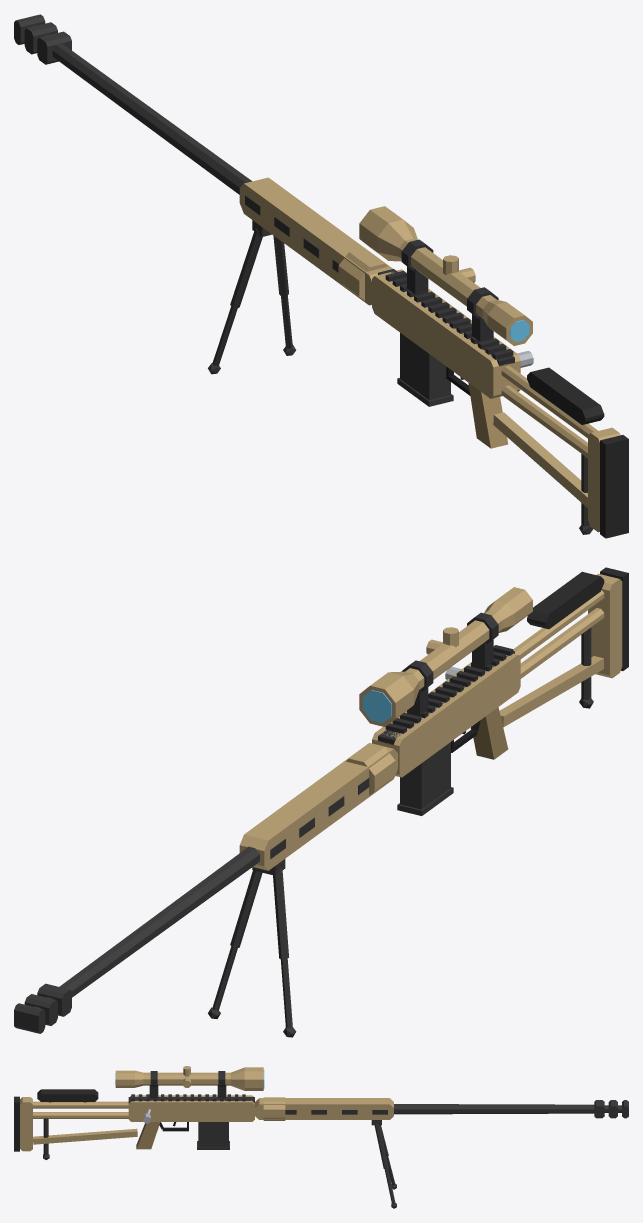
Rendered from Longbow.glb.
3 renders of one model, top to bottom at view 1: azimuth 30°, elevation 25°; view 2: azimuth 150°, elevation 25°; view 3: azimuth 270°, elevation 25°, orthographic. The views are drawn at different scales.
Visible parts, largest first — view 1: Scope, Body, Stock, Handguard, Pad, Barrel, Mount, Bipod, Magazine, Muzzle, Grip; view 2: Stock, Scope, Handguard, Body, Barrel, Bipod, Mount, Pad, Magazine, Muzzle, Grip, Lens; view 3: Stock, Scope, Body, Handguard, Barrel, Mount, Pad, Bipod, Magazine, Muzzle, Grip.
Boxes of the visible parts, box(x1,y1,x2,y2) form: Scope: box(338, 206, 532, 345); Body: box(372, 269, 520, 398); Stock: box(493, 365, 620, 532); Handguard: box(239, 177, 392, 305); Pad: box(527, 367, 628, 538); Barrel: box(52, 44, 339, 272); Mount: box(378, 239, 514, 366); Bipod: box(208, 220, 593, 534); Magazine: box(397, 333, 453, 406); Muzzle: box(14, 14, 71, 64); Grip: box(468, 383, 508, 448); Stock: box(499, 573, 622, 727); Scope: box(346, 587, 532, 795); Handguard: box(239, 743, 397, 870); Body: box(372, 653, 520, 777); Barrel: box(59, 778, 369, 997); Bipod: box(208, 627, 593, 1037); Mount: box(378, 612, 514, 744); Pad: box(527, 567, 628, 670); Magazine: box(397, 742, 453, 815); Muzzle: box(14, 983, 71, 1033); Grip: box(473, 707, 508, 759); Lens: box(362, 690, 391, 723); Stock: box(20, 1097, 137, 1151); Scope: box(115, 1066, 285, 1120); Body: box(128, 1095, 254, 1121); Handguard: box(255, 1098, 393, 1119); Barrel: box(285, 1104, 594, 1114); Mount: box(128, 1071, 254, 1102); Pad: box(14, 1089, 98, 1151); Bipod: box(43, 1118, 396, 1208); Magazine: box(197, 1122, 229, 1149); Muzzle: box(594, 1100, 628, 1118); Grip: box(136, 1122, 160, 1149).
Bounding box in the file's own units: 0.5881 × 1.66 × 7.07.
